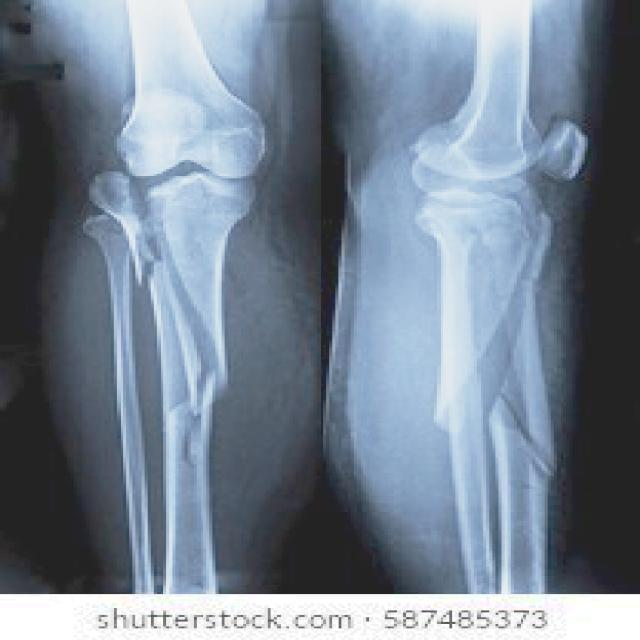Comminuted Fracture: (474, 381, 576, 472), (132, 352, 244, 433)
